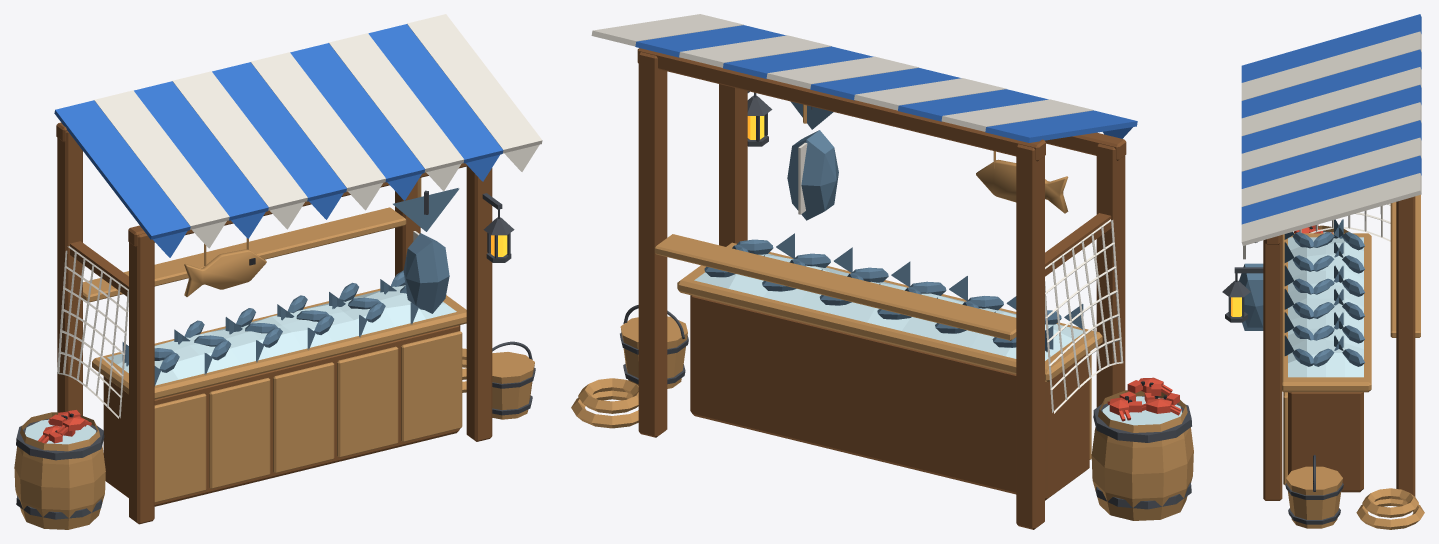
The model's file is fishmongers-market-stall.glb.
The picture shows the model from 3 angles, left to right: view 1: azimuth 30°, elevation 25°; view 2: azimuth 150°, elevation 25°; view 3: azimuth 270°, elevation 25°; orthographic projection. The views are drawn at different scales.
Parts seen in each view (by area): view 1: Ice_Bed, Post_FL, Counter_Body, Post_FR, Barrel, Awning_Stripe_0, Awning_Stripe_3, Awning_Stripe_1, Awning_Stripe_5, Awning_Stripe_7, Awning_Stripe_9, Post_BL (+19 smaller); view 2: Counter_Body, Post_BR, Post_BL, Shelf_Back, Barrel, Counter_Top, Beam_Back, Post_FL, Ice_Bed, Post_FR, Net, Tuna_Hanging (+18 smaller); view 3: Ice_Bed, Counter_Body, Post_BR, Post_FR, Awning_Stripe_9, Awning_Stripe_5, Awning_Stripe_1, Awning_Stripe_7, Awning_Stripe_3, Counter_Top, Awning_Stripe_6, Awning_Stripe_0 (+31 smaller).
Boxes of the visible parts, box(x1,y1,x2,y2) form: Ice_Bed: box(107, 285, 456, 385); Post_FL: box(129, 233, 154, 524); Counter_Body: box(103, 325, 460, 506); Post_FR: box(466, 166, 492, 441); Barrel: box(14, 412, 105, 529); Awning_Stripe_0: box(54, 100, 190, 239); Awning_Stripe_3: box(172, 71, 307, 210); Awning_Stripe_1: box(94, 90, 229, 229); Awning_Stripe_5: box(251, 52, 385, 191); Awning_Stripe_7: box(329, 33, 464, 172); Awning_Stripe_9: box(407, 14, 542, 153); Post_BL: box(57, 130, 82, 415); Counter_Body: box(690, 295, 1089, 500); Post_BR: box(638, 52, 667, 437); Post_BL: box(1016, 144, 1044, 529); Shelf_Back: box(654, 234, 1016, 340); Barrel: box(1091, 390, 1193, 520); Counter_Top: box(677, 242, 1102, 382); Beam_Back: box(637, 48, 1045, 161); Post_FL: box(1096, 143, 1125, 407); Ice_Bed: box(694, 253, 1085, 360); Post_FR: box(719, 84, 747, 246); Net: box(1045, 219, 1123, 413); Tuna_Hanging: box(787, 101, 838, 220); Ice_Bed: box(1288, 237, 1363, 377); Counter_Body: box(1288, 392, 1363, 492); Post_BR: box(1396, 196, 1415, 496); Post_FR: box(1263, 235, 1282, 500); Awning_Stripe_9: box(1241, 173, 1421, 245); Awning_Stripe_5: box(1241, 102, 1421, 171); Awning_Stripe_1: box(1241, 31, 1421, 100); Awning_Stripe_7: box(1241, 137, 1421, 206); Awning_Stripe_3: box(1241, 67, 1421, 136); Counter_Top: box(1282, 233, 1371, 392); Awning_Stripe_6: box(1241, 120, 1421, 188); Awning_Stripe_0: box(1241, 14, 1421, 82).
Bounding box in the file's own units: 14.32 × 9.52 × 5.33.
